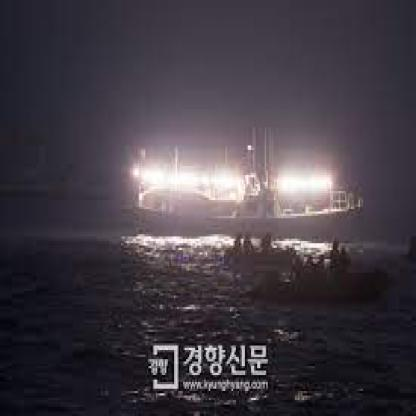fish-b: (119, 116, 367, 245)
